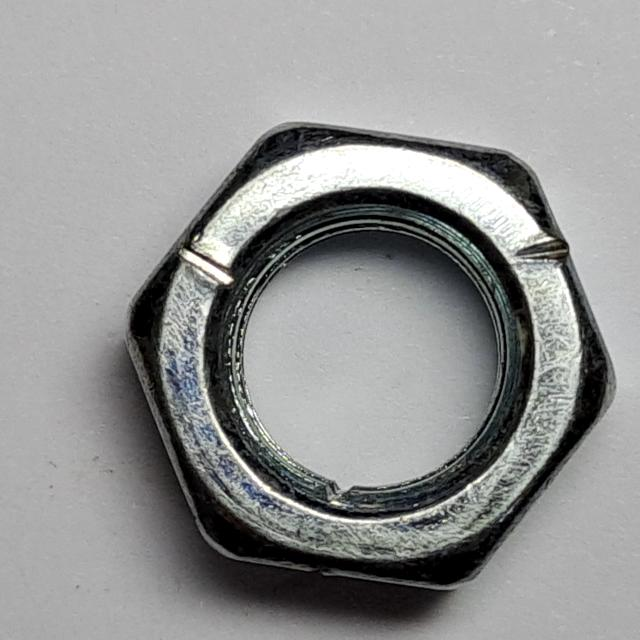Scratches: (111, 104, 633, 606)
